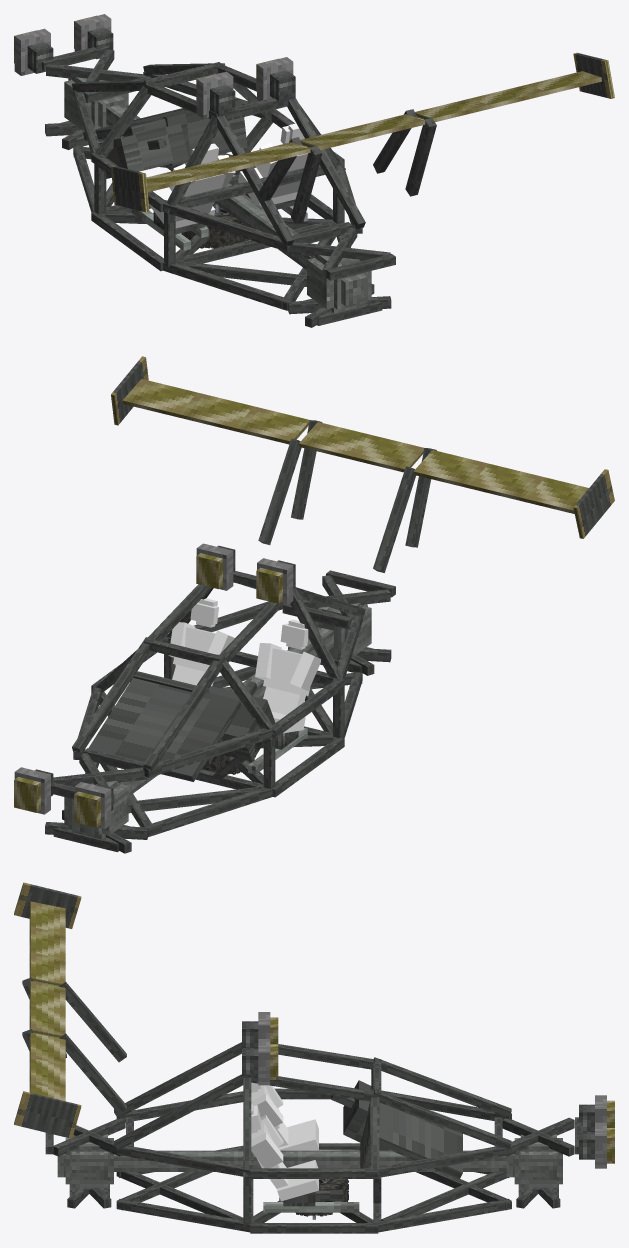
File: m6-owner-rigid-r1.glb
3 renders of one model, top to bottom at view 1: azimuth 30°, elevation 25°; view 2: azimuth 150°, elevation 25°; view 3: azimuth 270°, elevation 25°, orthographic. The views are drawn at different scales.
Visible parts, largest first — view 1: JV_m6_chassis, JV_m6_fl_wheel; view 2: JV_m6_chassis; view 3: JV_m6_chassis, JV_m6_fl_wheel.
Boxes of the visible parts, x1,y1,x2,y2 form: JV_m6_chassis: [14, 14, 614, 327]; JV_m6_fl_wheel: [181, 203, 248, 248]; JV_m6_chassis: [14, 356, 614, 853]; JV_m6_chassis: [14, 882, 614, 1233]; JV_m6_fl_wheel: [295, 1179, 348, 1216].
Bounding box in the file's own units: 7.81 × 3.99 × 9.37.
4 materials, 2 textured.
